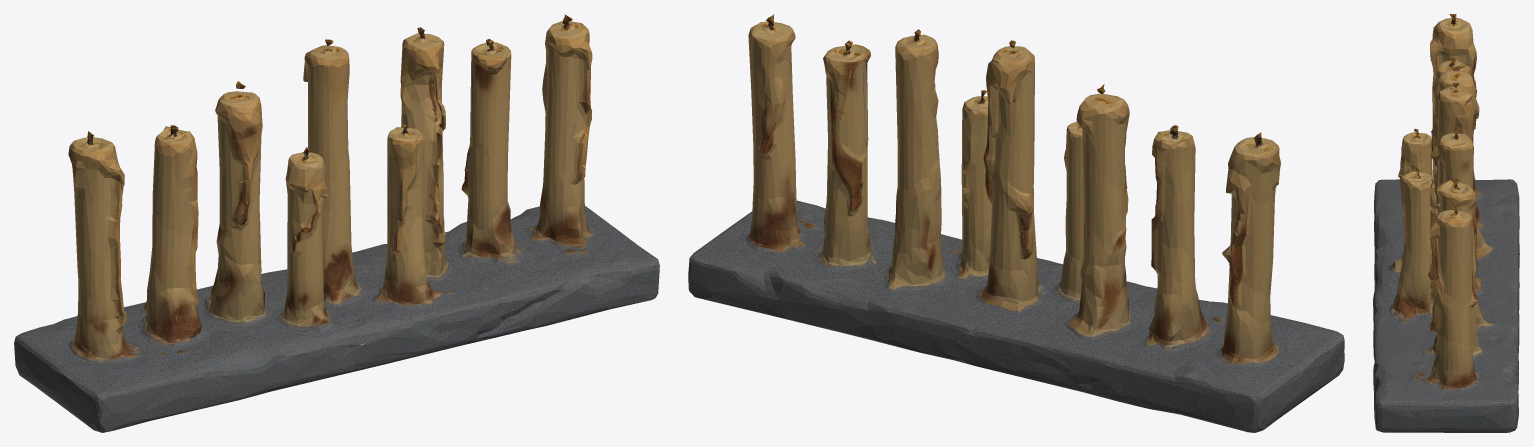
File: candles.glb
3 views of the same model, side by side, from view 1: azimuth 30°, elevation 25°; view 2: azimuth 150°, elevation 25°; view 3: azimuth 270°, elevation 25° (orthographic). The views are drawn at different scales.
Parts seen in each view (by area): view 1: lo; view 2: lo; view 3: lo.
Boxes of the visible parts, x1,y1,x2,y2 form: lo: [14, 14, 659, 432]; lo: [688, 14, 1344, 432]; lo: [1373, 14, 1519, 432].
Bounding box in the file's own units: 0.6197 × 0.306 × 0.1698.
1 material, 1 textured.
